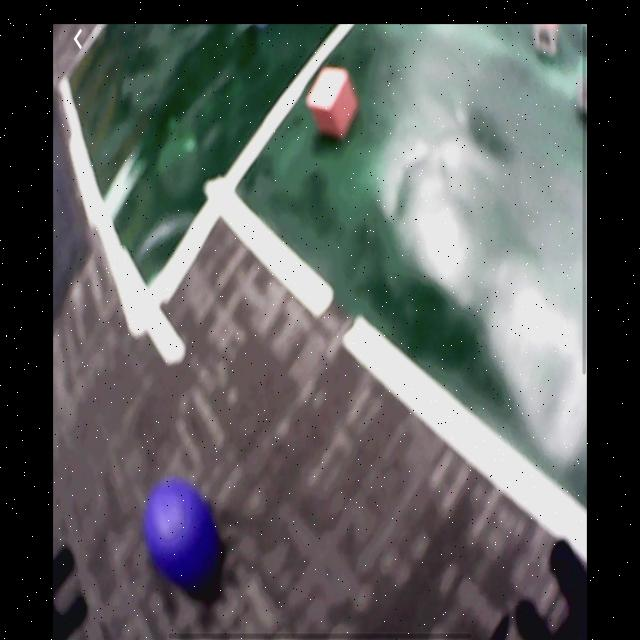ball: (144, 479, 216, 585)
